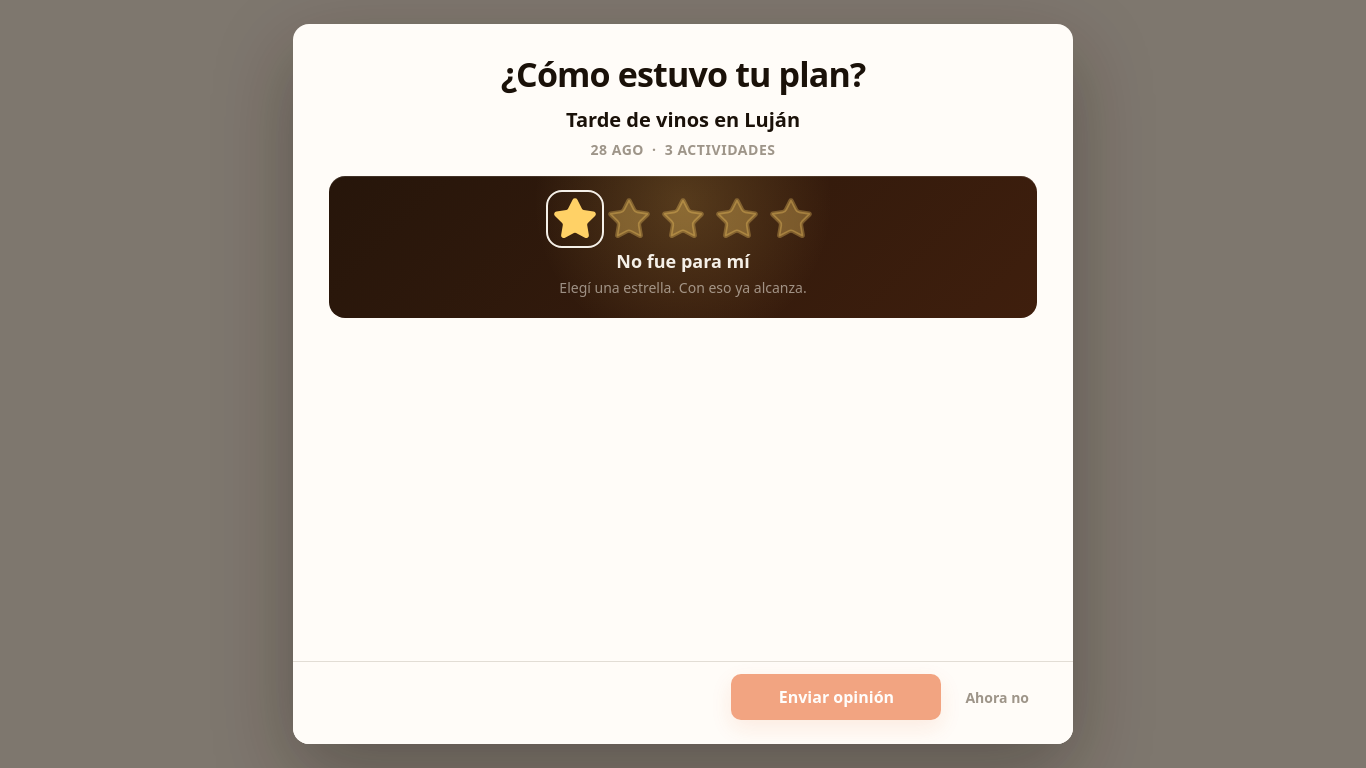
Test: FeedbackDialog (CU23) › sanitizes and limits the real cost while preserving two decimals
This screenshot has width=1366, height=768.
Step 1. Click the radio button named "4 estrellas — Muy bueno" → click(737, 219), box [712,194,762,244]
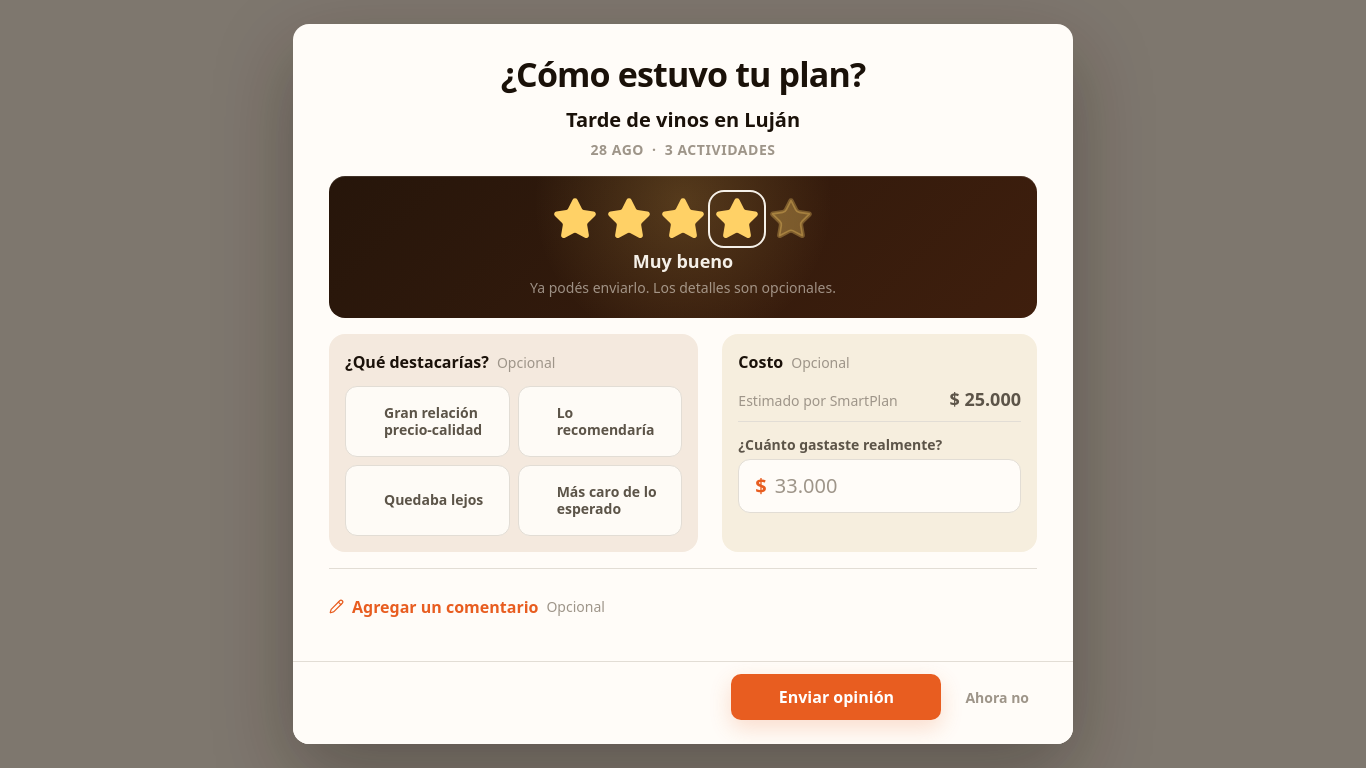
Step 2. Type "$ 28400,567 abc" into the field labelled "¿Cuánto gastaste realmente?" → (893, 486), box [767,460,1020,512]
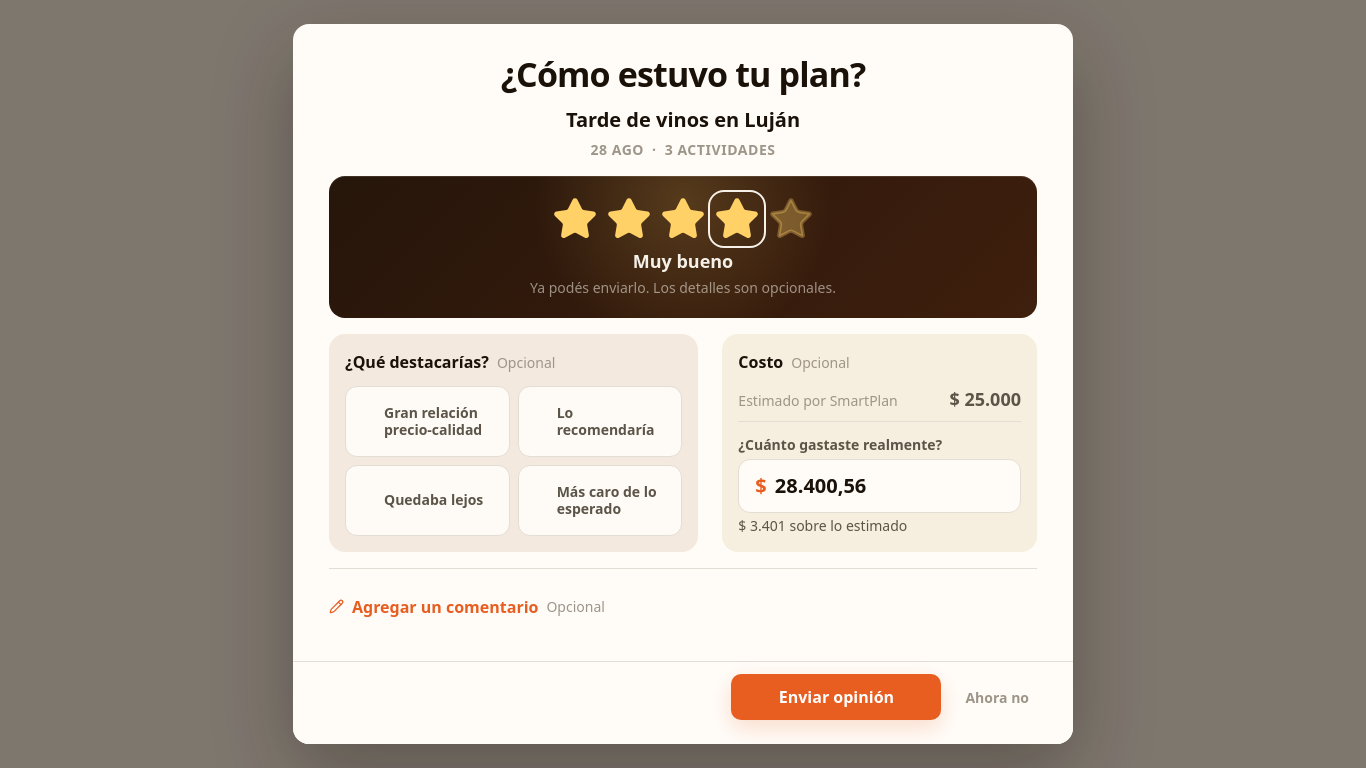
Expected: the field labelled "¿Cuánto gastaste realmente?" holds "28.400,56", [767,460,1020,512]
